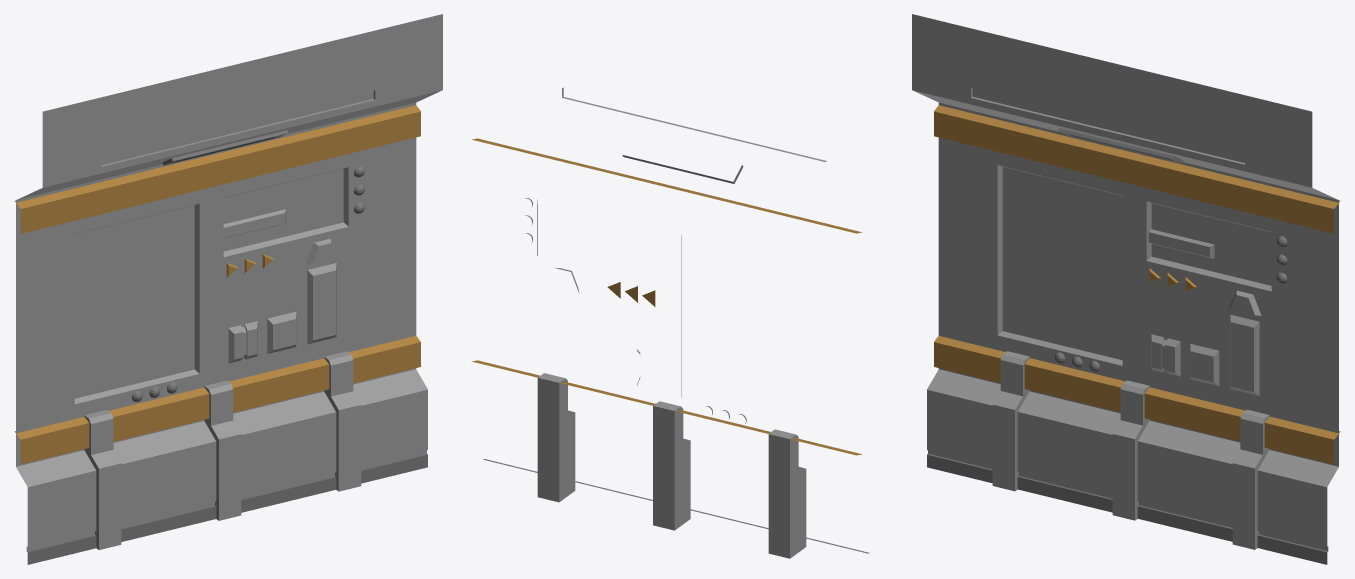
The model's file is Wall_1.glb.
3 renders of one model, left to right at view 1: azimuth 30°, elevation 25°; view 2: azimuth 150°, elevation 25°; view 3: azimuth 330°, elevation 25°, orthographic. The views are drawn at different scales.
Parts seen in each view (by area): view 1: Wall_1; view 2: Wall_1; view 3: Wall_1.
Boxes of the visible parts, box(x1,y1,x2,y2) form: Wall_1: box(14, 14, 442, 564); Wall_1: box(471, 87, 869, 558); Wall_1: box(912, 14, 1340, 564).
Size of the model in its own units: 4 by 4.43 by 0.5447.
